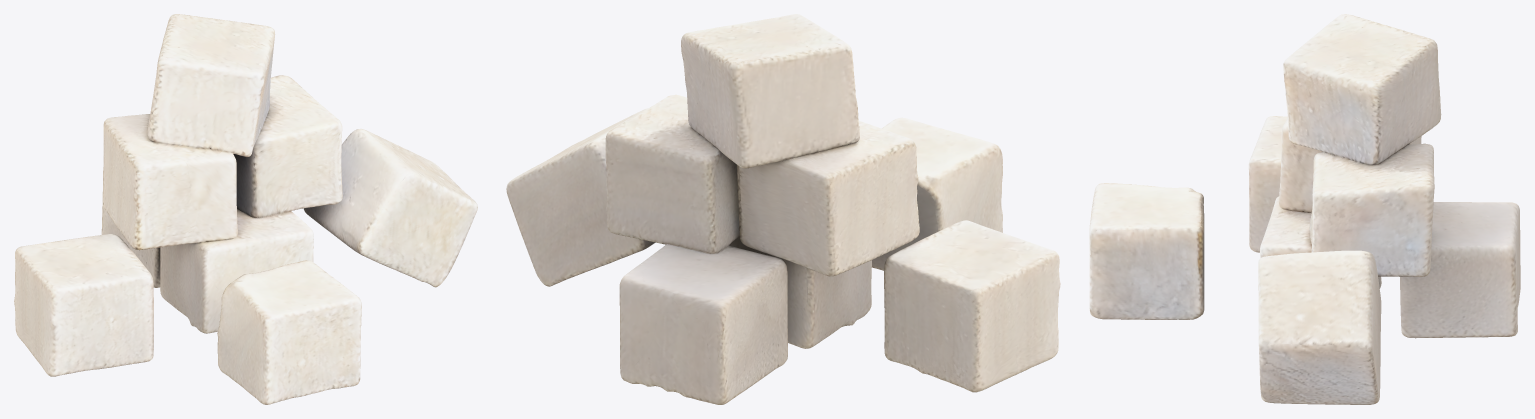
File: lod_basic_shaded.fbx
3 renders of one model, left to right at view 1: azimuth 30°, elevation 25°; view 2: azimuth 150°, elevation 25°; view 3: azimuth 270°, elevation 25°, orthographic. The views are drawn at different scales.
Parts seen in each view (by area): view 1: model_LOD0; view 2: model_LOD0; view 3: model_LOD0.
Boxes of the visible parts, left/top/right/bottom form: model_LOD0: left=14, top=14, right=477, bottom=404; model_LOD0: left=506, top=14, right=1060, bottom=404; model_LOD0: left=1089, top=14, right=1520, bottom=404.
Size of what is drawn, in the model's own units: 190 by 109 by 158.
